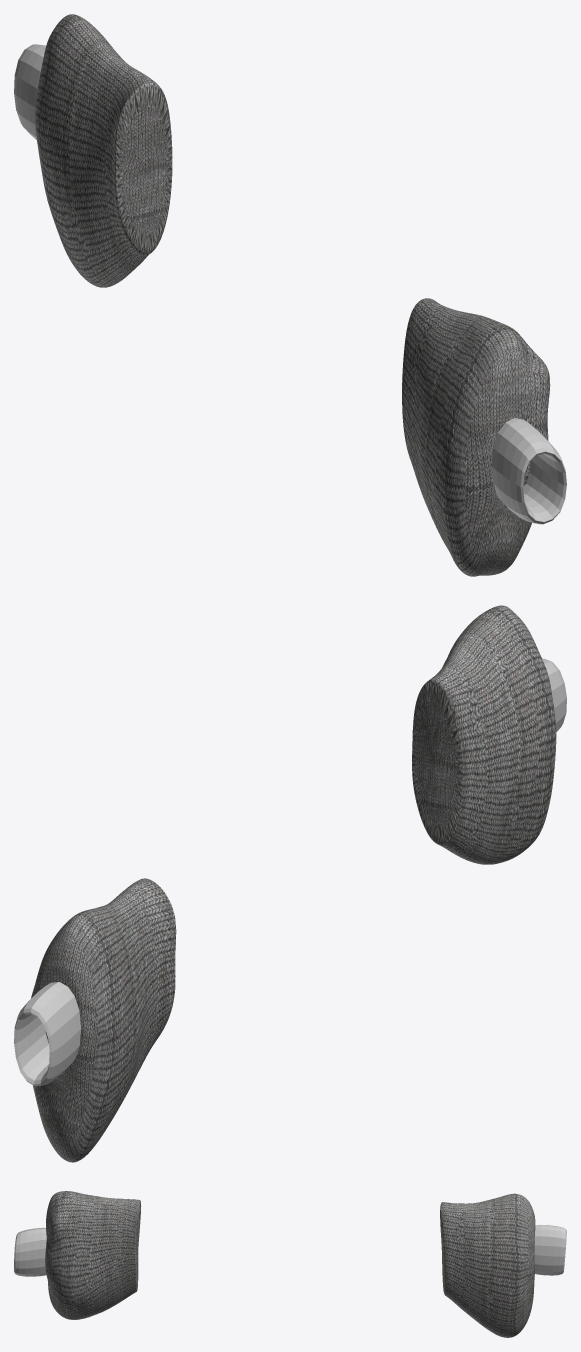
Rendered from bishop-sleeve-short.fbx.
3 renders of one model, top to bottom at view 1: azimuth 30°, elevation 25°; view 2: azimuth 150°, elevation 25°; view 3: azimuth 270°, elevation 25°, orthographic. The views are drawn at different scales.
Visible parts, largest first — view 1: Cylinder, Cylinder.001, Cube.006, Cube.003; view 2: Cylinder.001, Cylinder, Cube.003, Cube.006; view 3: Cylinder, Cylinder.001, Cube.003, Cube.006.
Boxes of the visible parts, left/top/right/bottom form: Cylinder: left=35, top=14, right=172, bottom=287; Cylinder.001: left=402, top=298, right=550, bottom=576; Cube.006: left=491, top=418, right=566, bottom=524; Cube.003: left=14, top=44, right=45, bottom=139; Cylinder.001: left=412, top=605, right=556, bottom=864; Cylinder: left=31, top=878, right=176, bottom=1162; Cube.003: left=14, top=982, right=81, bottom=1086; Cube.006: left=542, top=658, right=566, bottom=731; Cylinder: left=440, top=1193, right=535, bottom=1337; Cylinder.001: left=45, top=1191, right=141, bottom=1319; Cube.003: left=534, top=1225, right=566, bottom=1275; Cube.006: left=14, top=1227, right=46, bottom=1276.
Bounding box in the file's own units: 33.73 × 78.17 × 277.
